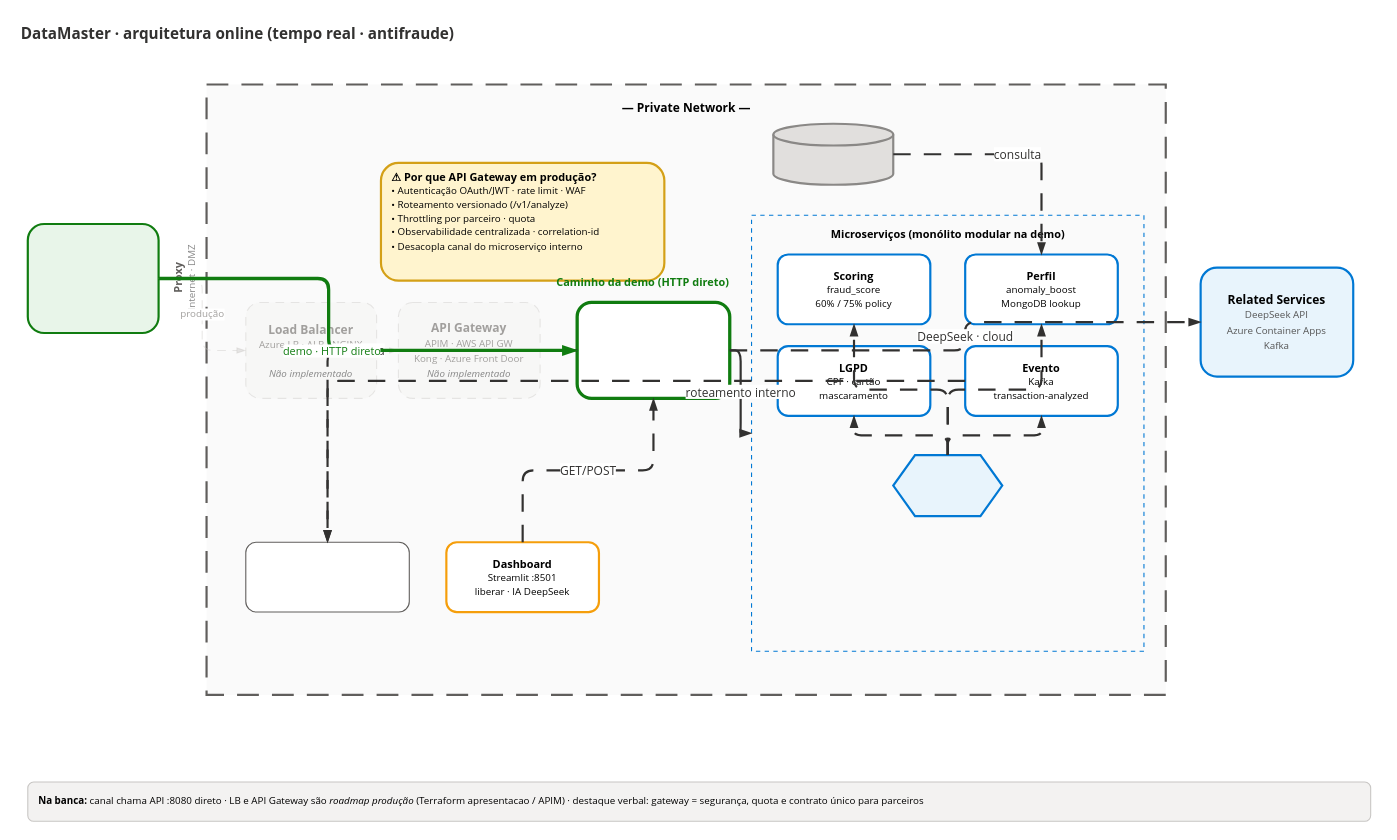
This 1397x840 diagram has some shape labels left out. The shapes that lost their labels are listed below. From the top down, each one's centre as x and y in pixels, then its label:
At pixel 833 153: "MongoDB user_profiles ← batch".
At pixel 92 278: "Clientes / Canais Console :3333 · Dashboard :8501 Swagger · curl · mobile/web".
At pixel 653 349: "API Java Spring Boot · :8080 POST /analyze · /batch".
At pixel 947 485: "Internal Routing".
At pixel 327 576: "Observabilidade Prometheus · Grafana /health · métricas".
